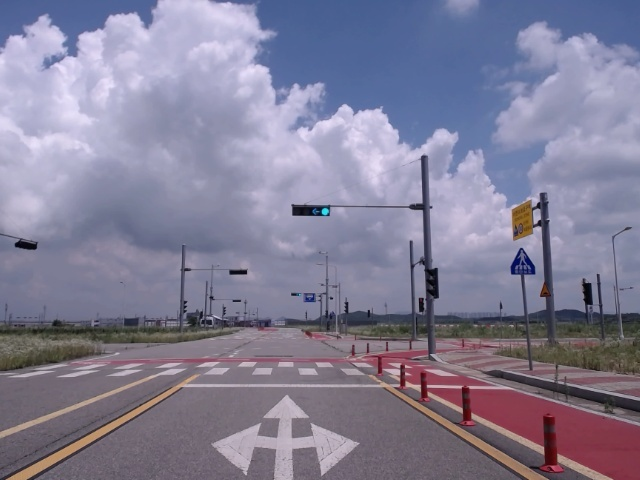all_green_4: (292, 202, 331, 219)
